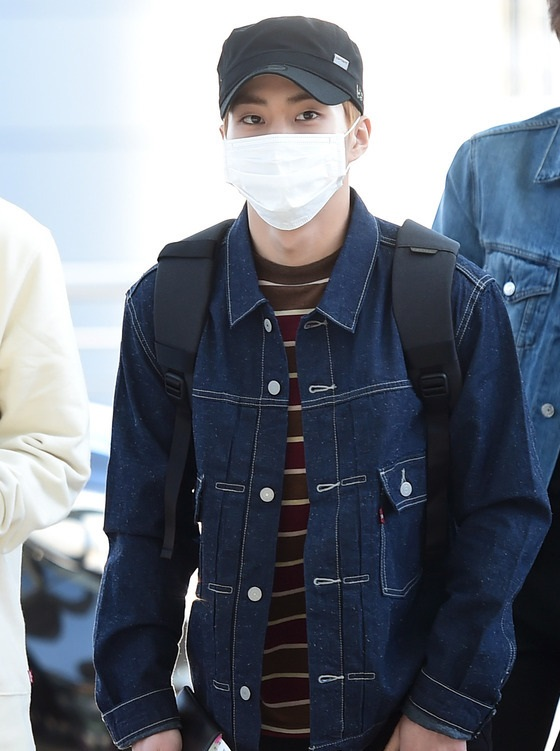face_mask: (225, 55, 345, 234)
